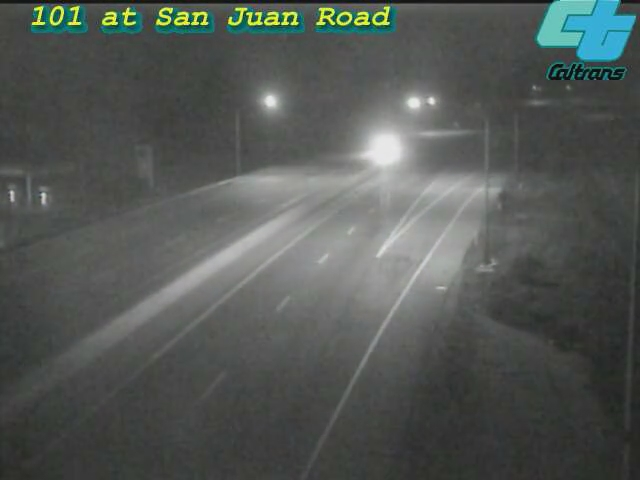vehicle: (354, 124, 404, 174)
